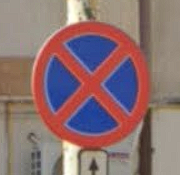oprirea_interzisa: (30, 20, 149, 149)
